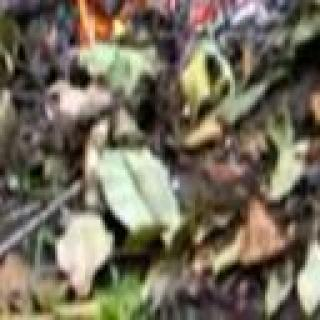fire: (79, 0, 320, 7)
